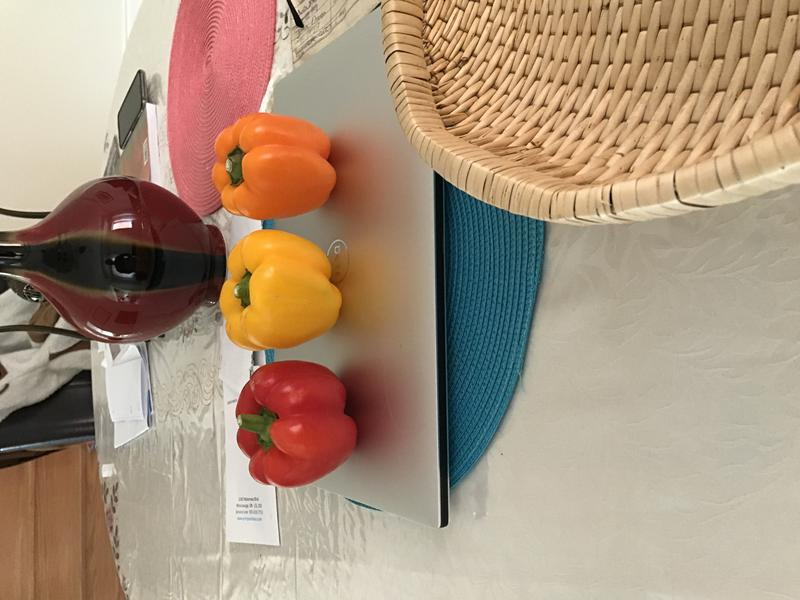orange_pepper: (203, 109, 349, 224)
red_pepper: (228, 357, 367, 494)
yellow_pepper: (221, 225, 348, 353)
